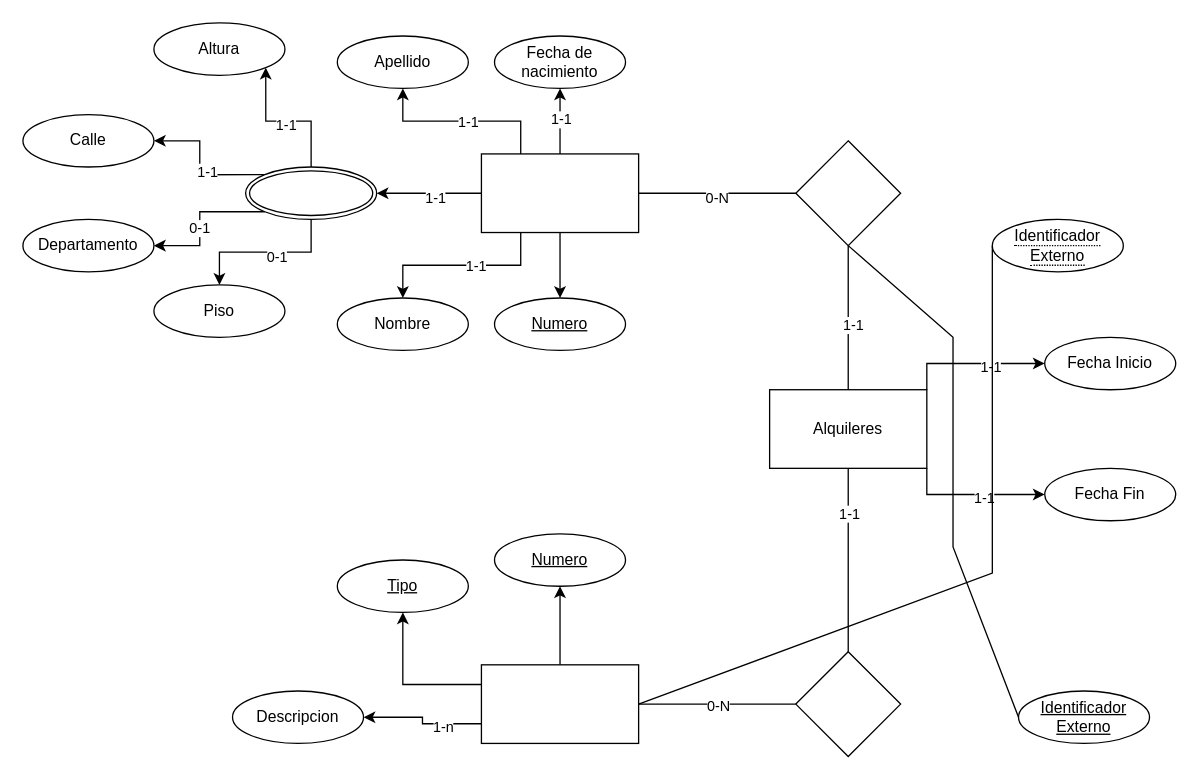
Image size: 1199x779. Some labels were removed from this diagram. Here are the shapes that lost their labels. From the top down, the box of each, then its label:
(244, 166, 377, 219): Domicilio
(480, 153, 639, 233): Clientes
(795, 140, 901, 246): Realizan
(480, 664, 639, 743): Bicicleta
(795, 650, 901, 757): Tiene
